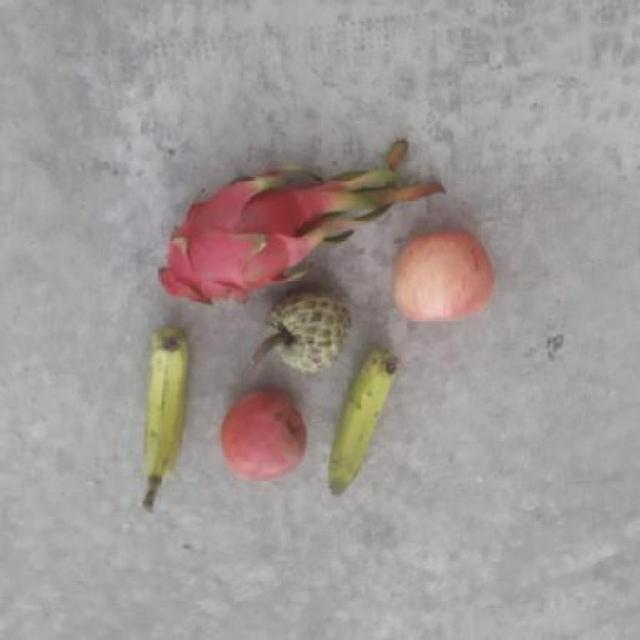apple: (392, 224, 494, 328), (215, 388, 310, 482)
banana: (320, 348, 403, 500), (128, 328, 198, 480)
dragon fruit: (157, 171, 325, 303)
sugar apple: (258, 287, 354, 376)
